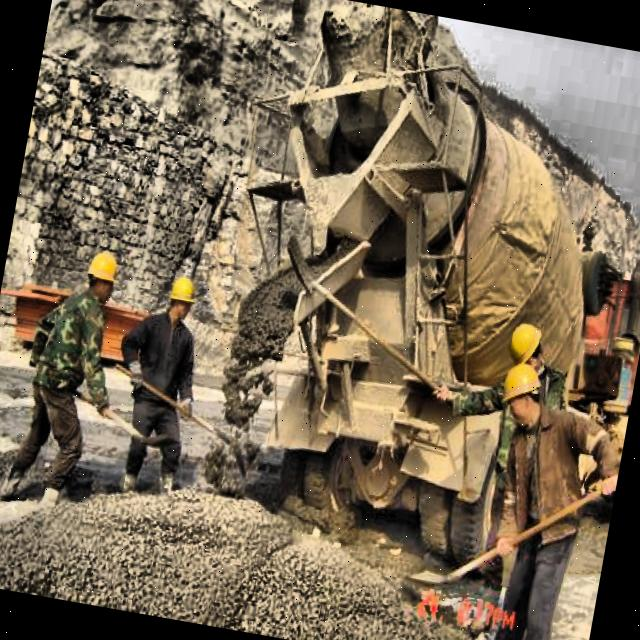helmet: (494, 356, 548, 436), (80, 245, 120, 308), (160, 268, 200, 328), (502, 321, 552, 369)
